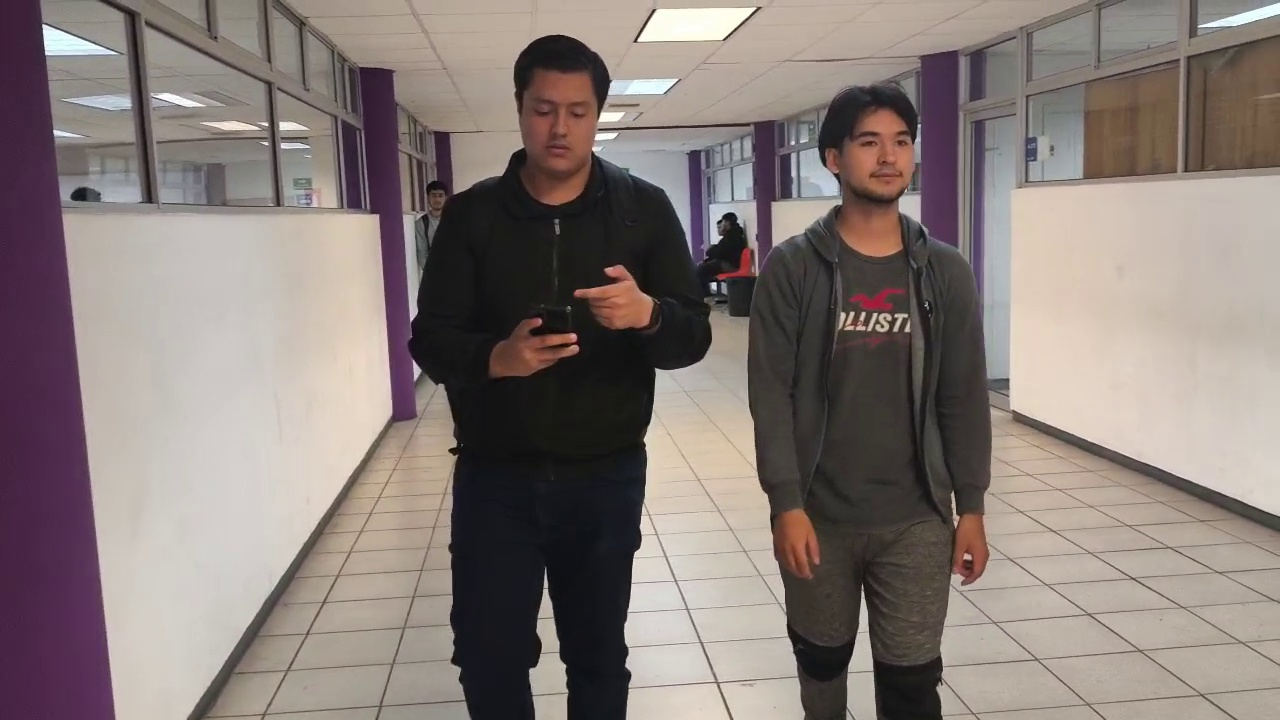mixto2: (518, 287, 579, 358)
